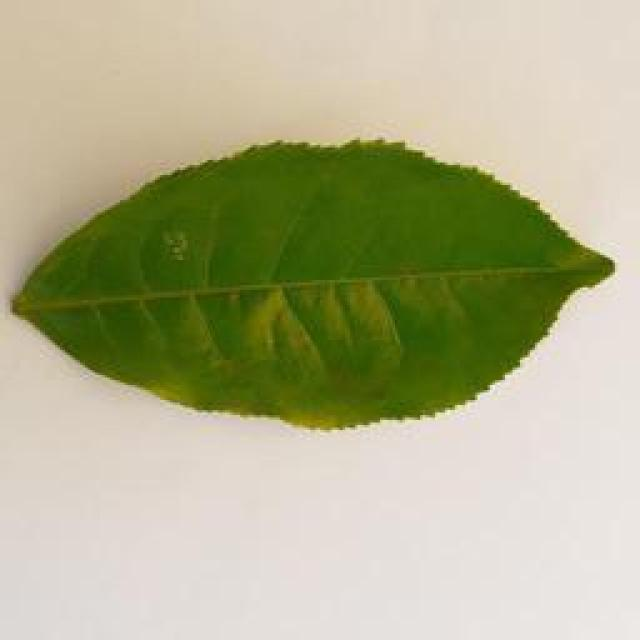Healthy: (0, 143, 638, 446)
